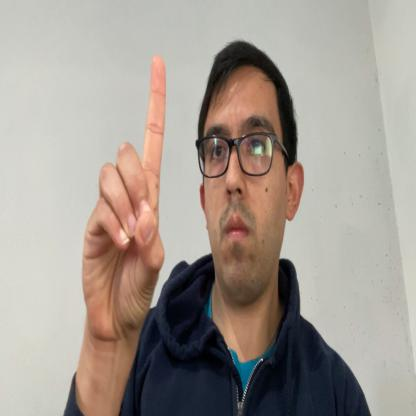D: (81, 57, 166, 342)
